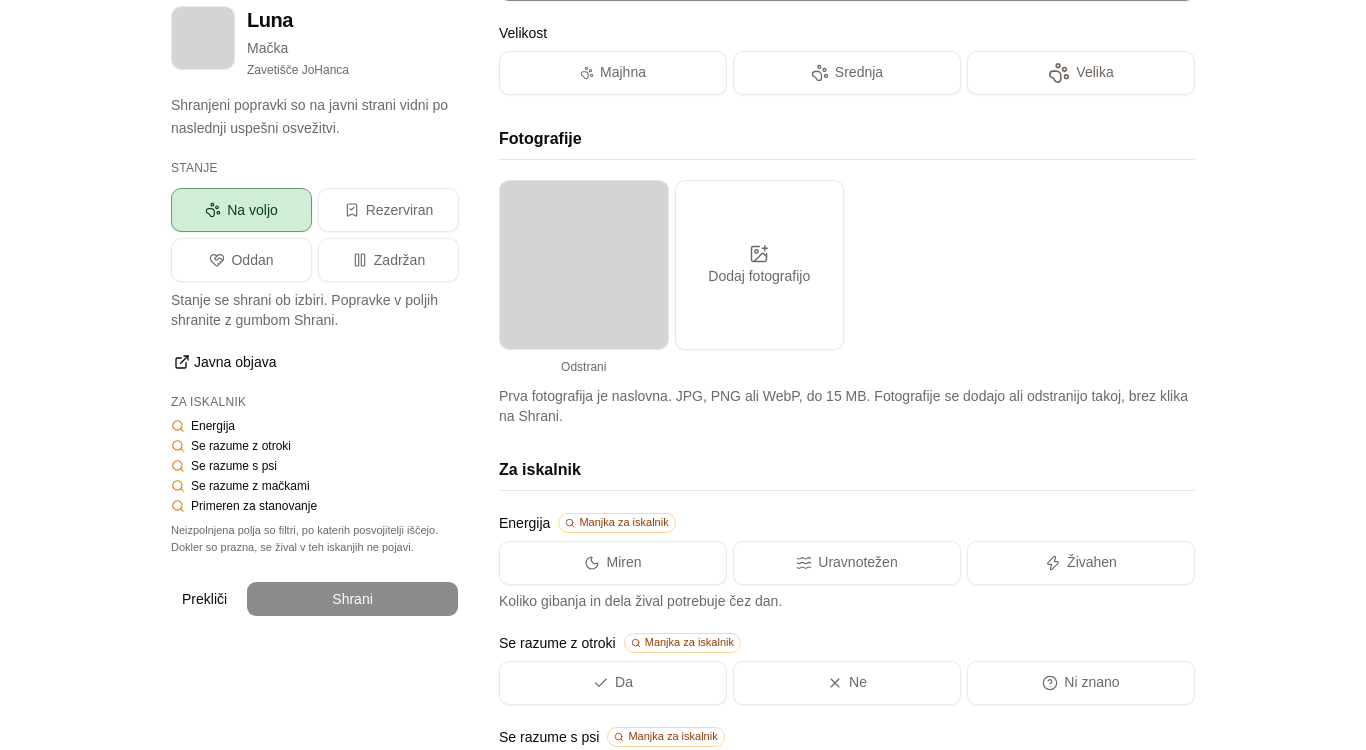
Test: photos on an existing listing › says so beside the grid when a remove fails
This screenshot has width=1366, height=750.
(page scrolled)
What coordinates should you click on to do the following:
click the button "Odstrani"
I would click on:
 (584, 366)
Its box is [499,354,668,380].
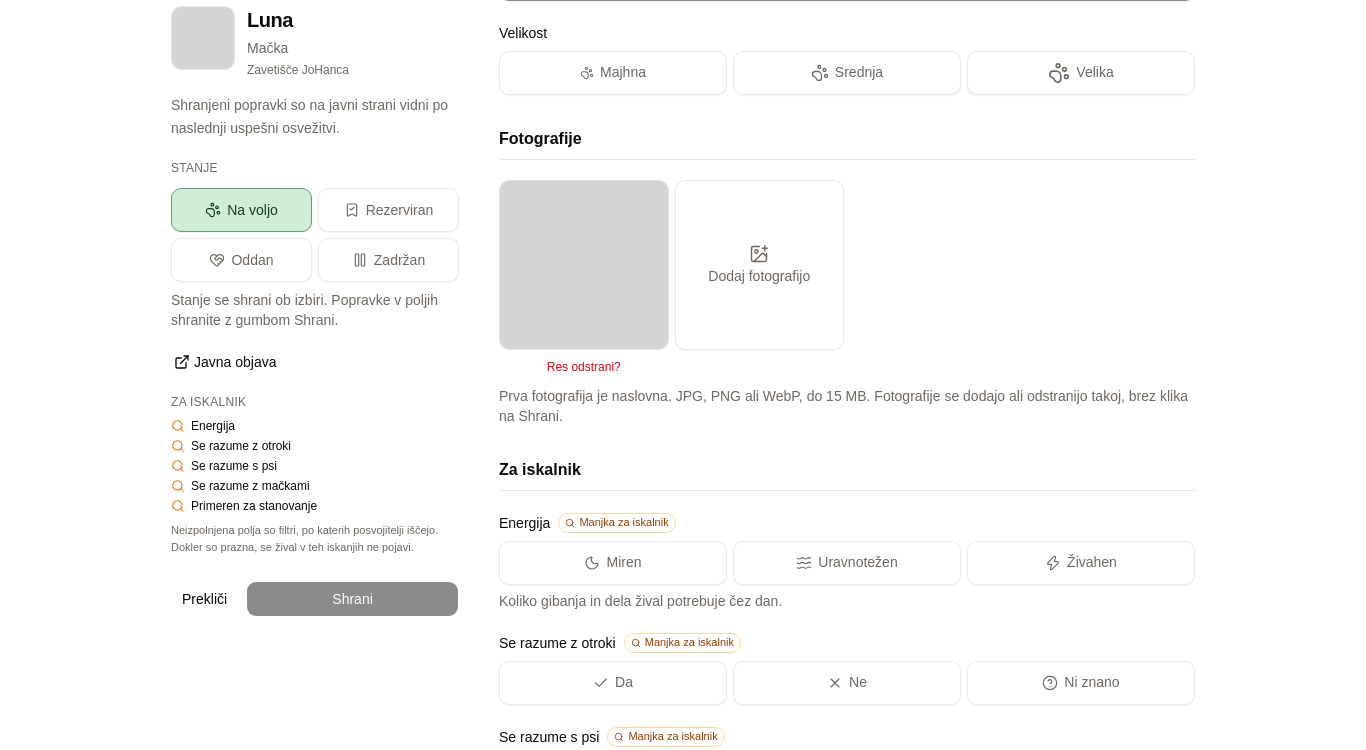
What coordinates should you click on to do the following:
click the button "Res odstrani?"
I would click on:
 (584, 366)
Its box is [499,354,668,380].
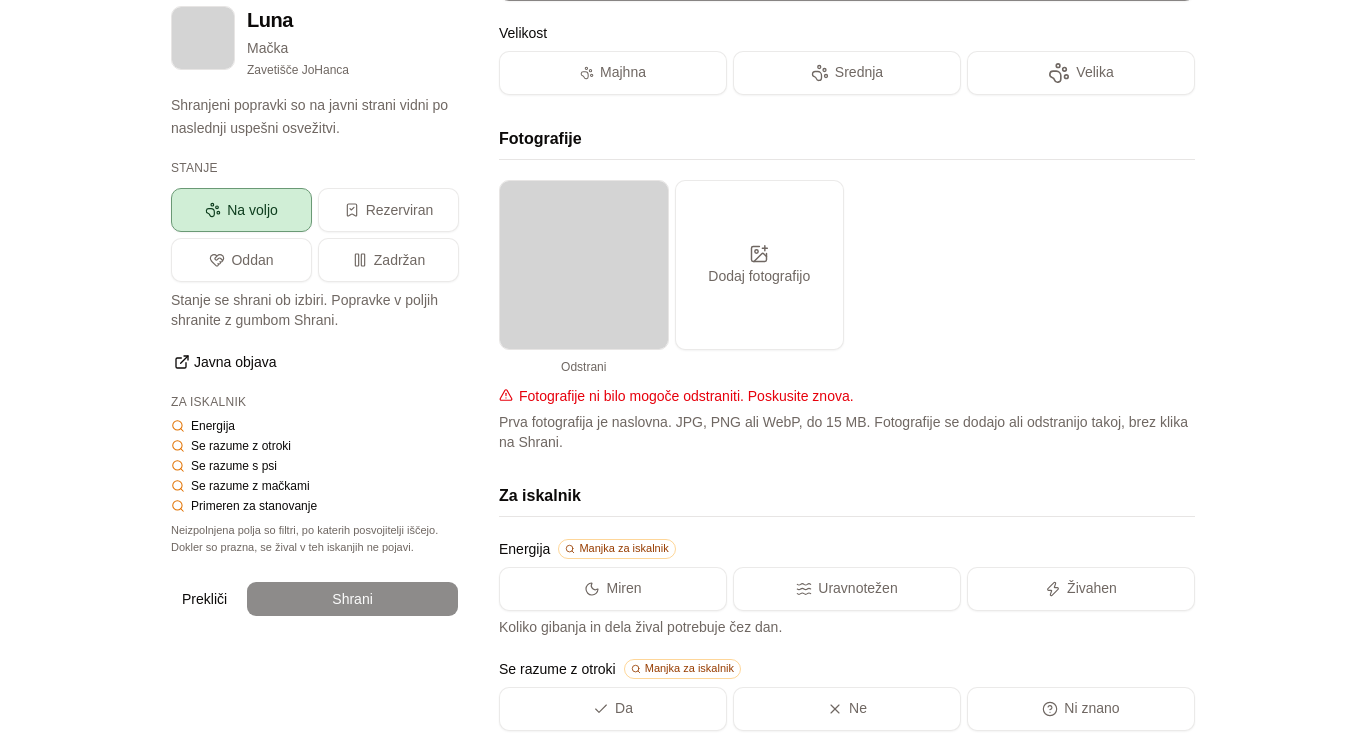
Expected: the text "Fotografije ni bilo mogoče odstraniti. Poskusite znova." is not shown
Now the text "Fotografije ni bilo mogoče odstraniti. Poskusite znova." is shown, box [499,388,854,404]
